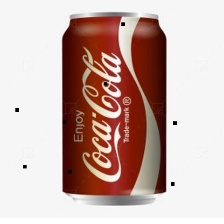can: (59, 8, 170, 206)
